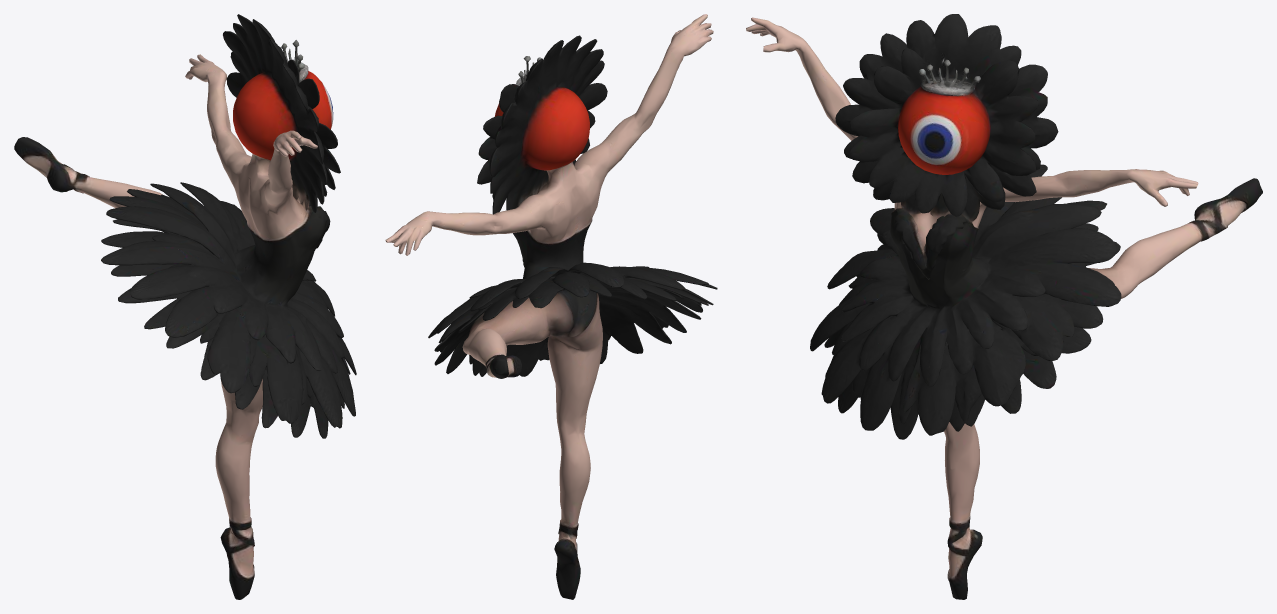
Rendered from odile.glb.
3 renders of one model, left to right at view 1: azimuth 30°, elevation 25°; view 2: azimuth 150°, elevation 25°; view 3: azimuth 270°, elevation 25°, orthographic. The views are drawn at different scales.
Parts seen in each view (by area): view 1: tripo_node_c1fc6f81-0ed9-4919-be4b-07dcdca4a1a3; view 2: tripo_node_c1fc6f81-0ed9-4919-be4b-07dcdca4a1a3; view 3: tripo_node_c1fc6f81-0ed9-4919-be4b-07dcdca4a1a3.
Boxes of the visible parts, x1,y1,x2,y2 form: tripo_node_c1fc6f81-0ed9-4919-be4b-07dcdca4a1a3: (14,14,356,599); tripo_node_c1fc6f81-0ed9-4919-be4b-07dcdca4a1a3: (385,14,717,599); tripo_node_c1fc6f81-0ed9-4919-be4b-07dcdca4a1a3: (746,14,1262,599).
Bounding box in the file's own units: 0.4404 × 1 × 0.7904.
1 material, 1 textured.
